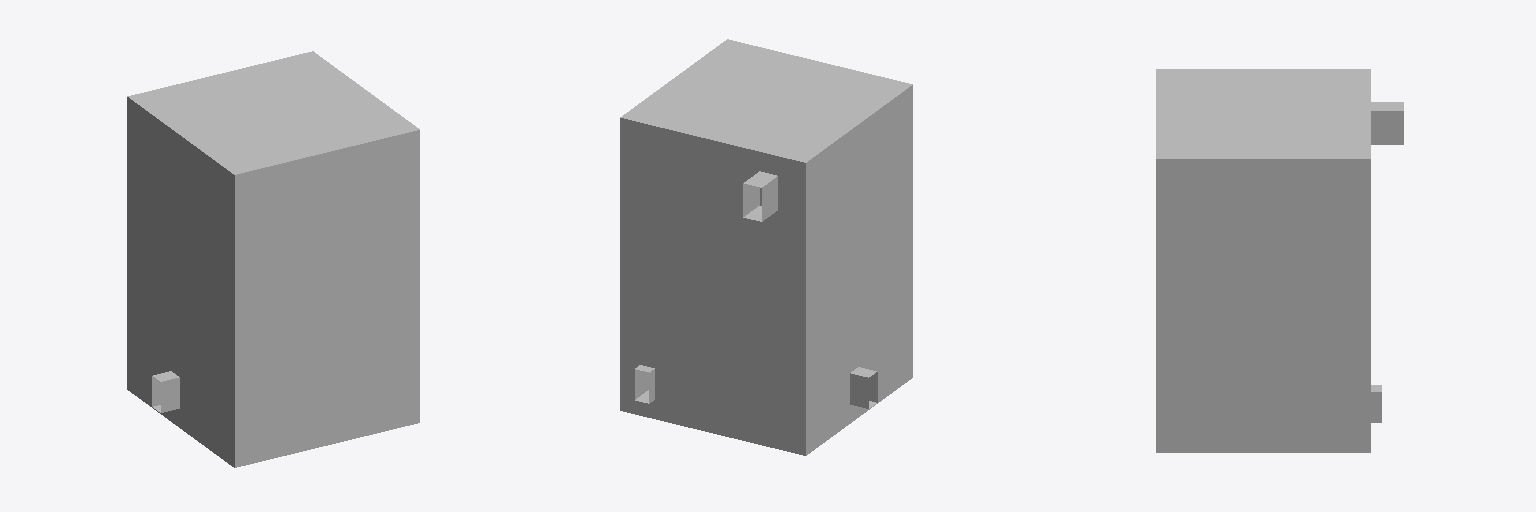
File: disposal pit collision.obj
3 renders of one model, left to right at view 1: azimuth 30°, elevation 25°; view 2: azimuth 150°, elevation 25°; view 3: azimuth 270°, elevation 25°, orthographic.
Visible parts, largest first — view 1: result.003_Cube.018; view 2: result.003_Cube.018; view 3: result.003_Cube.018.
Part boxes in pixels (x1,y1,x2,y2): result.003_Cube.018: (127, 51, 419, 467); result.003_Cube.018: (620, 39, 912, 455); result.003_Cube.018: (1156, 69, 1403, 452).
Size of the model in its own units: 21.95 by 30 by 22.95.